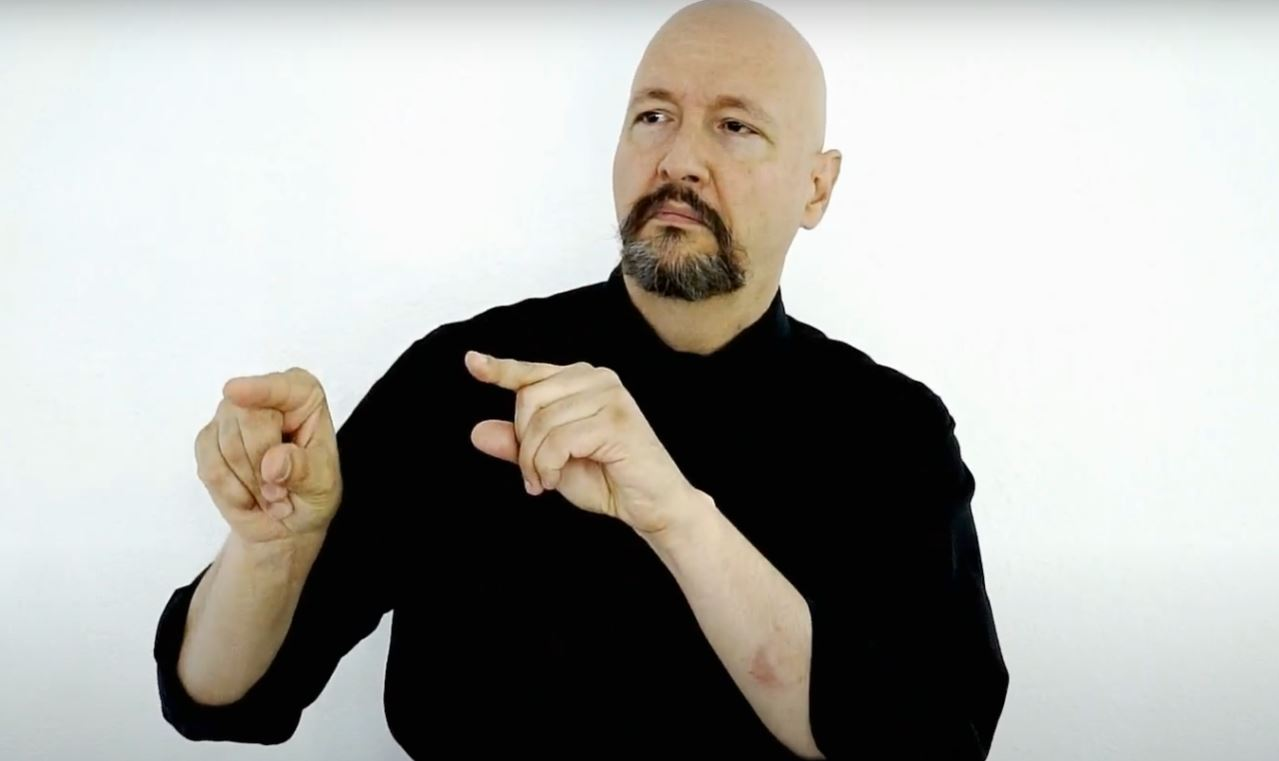go: (160, 311, 739, 603)
